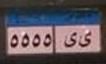5: (31, 32, 42, 49), (42, 32, 51, 49), (20, 33, 30, 48), (10, 33, 19, 49)
yaa: (78, 30, 92, 48), (63, 31, 77, 49)
